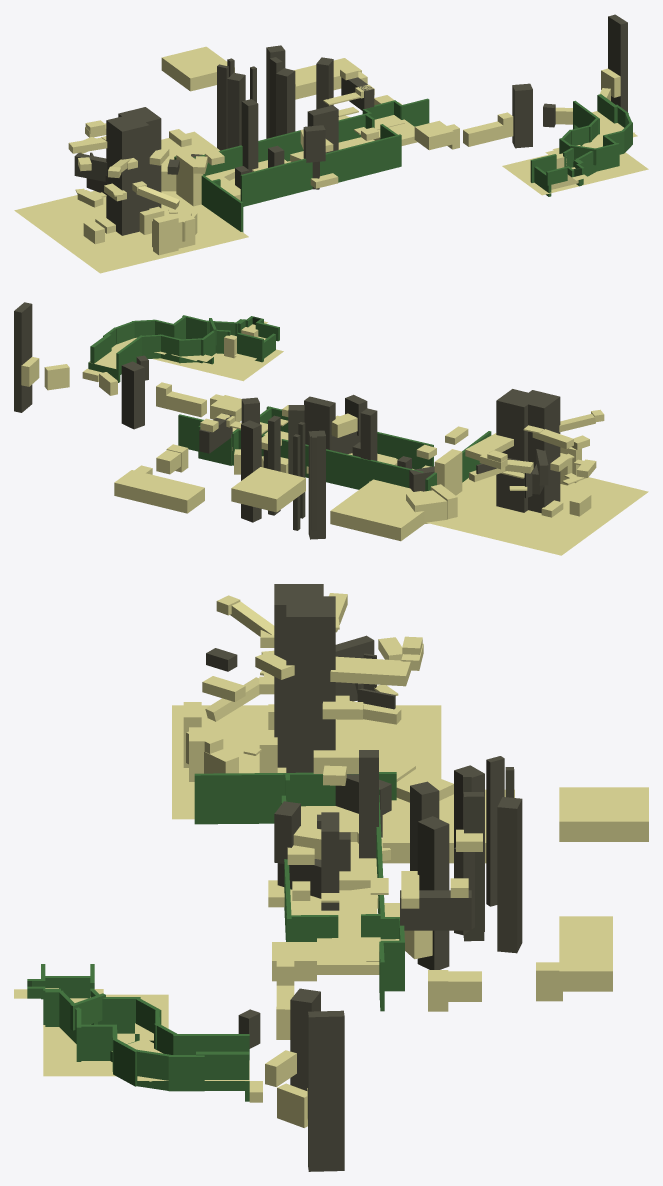
Rendered from ForestLevelBlockOut.fbx.
3 renders of one model, top to bottom at view 1: azimuth 30°, elevation 25°; view 2: azimuth 150°, elevation 25°; view 3: azimuth 270°, elevation 25°, orthographic. The views are drawn at different scales.
Parts seen in each view (by area): view 1: Ground54, Wall39, TreePart2, Wall38, Ground8, Ground12, DamWall1, Wall41, Obstactal12, Obstactal5, Obstactal17, Obstactal1 (+27 smaller); view 2: Ground54, GroundStartArea, TreePart1, TreePart2, Wall38, Ground7, Ground8, DamWall1, Obstactal12, Obstactal1, Ground12, Obstactal8 (+37 smaller); view 3: Ground54, TreePart1, Wall41, DamWall1, Ground8, Ground7, Obstactal8, Obstactal9, Ground12, TreePart2, Obstactal10, GroundStartArea (+36 smaller).
Boxes of the visible parts, x1,y1,x2,y2 form: Ground54: (14, 190, 248, 273); Wall39: (240, 134, 401, 206); TreePart2: (106, 113, 149, 235); Wall38: (193, 112, 371, 175); Ground8: (161, 46, 234, 91); Ground12: (502, 152, 648, 195); DamWall1: (608, 14, 627, 111); Wall41: (174, 156, 243, 232); Obstactal12: (512, 83, 532, 148); Obstactal5: (276, 68, 295, 136); Obstactal17: (241, 99, 258, 172); Obstactal1: (227, 73, 245, 148); Ground54: (426, 475, 648, 555); GroundStartArea: (330, 479, 424, 541); TreePart1: (496, 389, 539, 512); TreePart2: (517, 390, 560, 513); Wall38: (238, 429, 423, 489); Ground7: (114, 470, 204, 513); Ground8: (231, 467, 305, 512); DamWall1: (14, 302, 32, 412); Obstactal12: (121, 361, 144, 429); Obstactal1: (308, 430, 325, 539); Ground12: (153, 349, 283, 381); Obstactal8: (241, 420, 261, 522); Ground54: (172, 705, 441, 819); TreePart1: (286, 596, 335, 772); Wall41: (194, 772, 396, 824); DamWall1: (308, 1010, 344, 1171); Ground8: (559, 787, 648, 841); Ground7: (559, 916, 612, 991); Obstactal8: (497, 797, 522, 953); Obstactal9: (417, 816, 449, 969); Ground12: (43, 994, 168, 1076); TreePart2: (274, 584, 323, 767); Obstactal10: (400, 890, 471, 930); GroundStartArea: (382, 789, 514, 863).
Size of the model in its own units: 230 by 51.92 by 142.
